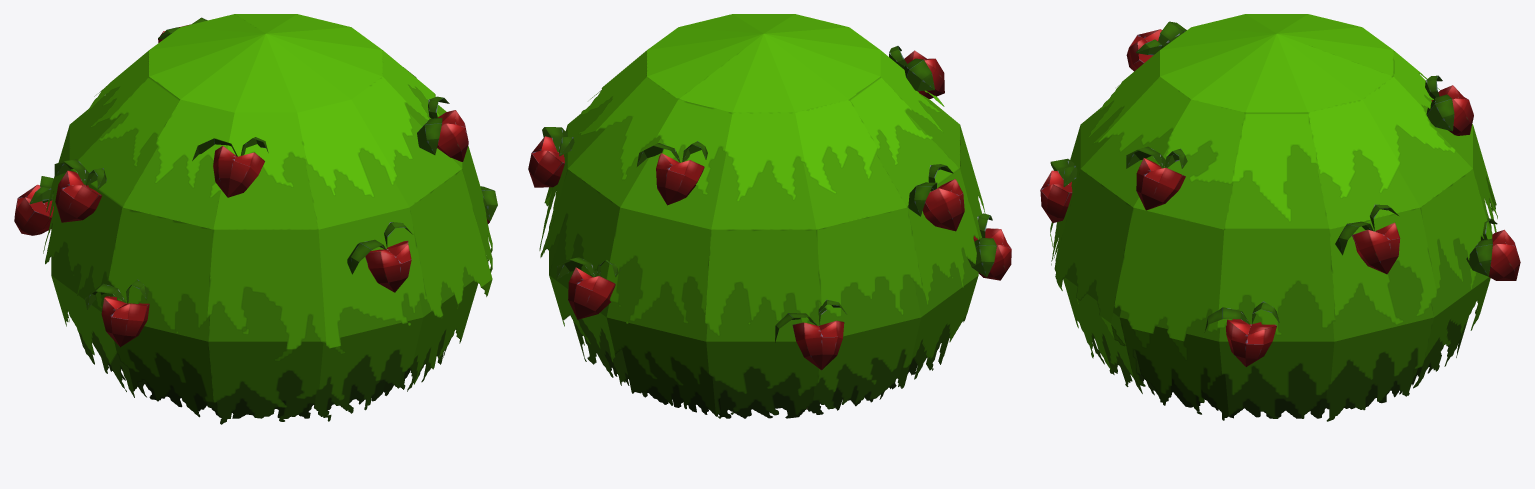
The model's file is BushBerried.fbx.
3 renders of one model, left to right at view 1: azimuth 30°, elevation 25°; view 2: azimuth 150°, elevation 25°; view 3: azimuth 270°, elevation 25°, orthographic.
Parts seen in each view (by area): view 1: sphere; view 2: sphere; view 3: sphere.
Boxes of the visible parts, box(x1,y1,x2,y2) form: sphere: box(14, 14, 497, 424); sphere: box(528, 14, 1011, 418); sphere: box(1040, 14, 1520, 421).
Size of the model in its own units: 128 by 105 by 127.
1 material, 1 textured.
